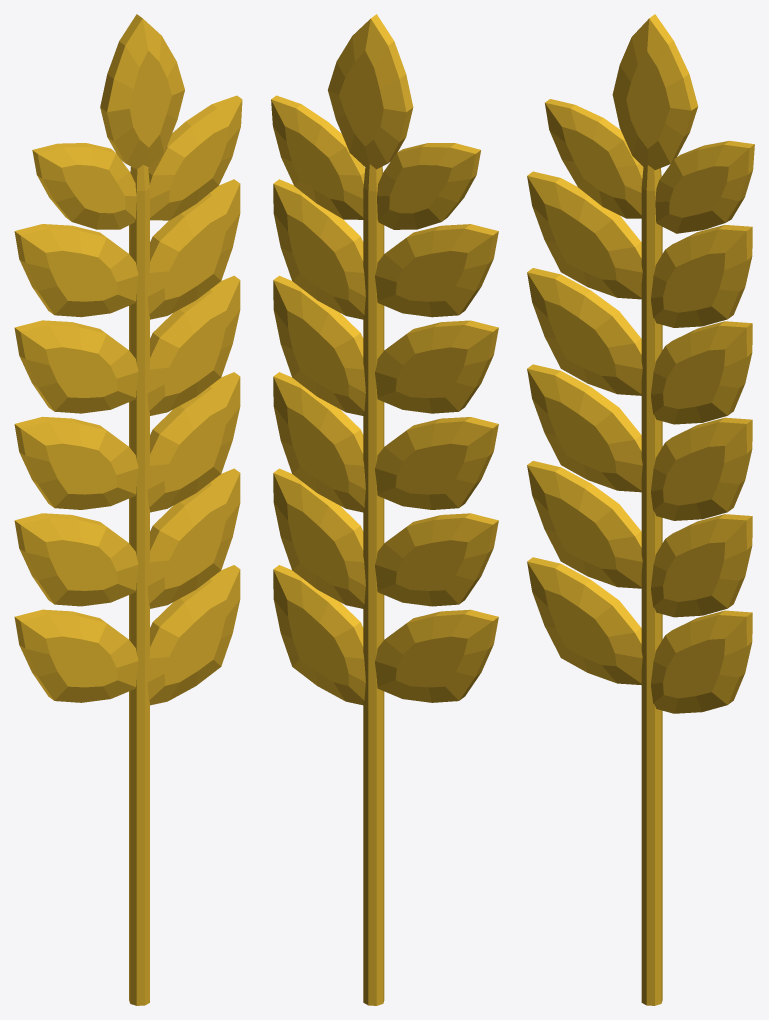
File: wheat.fbx
3 renders of one model, left to right at view 1: azimuth 30°, elevation 25°; view 2: azimuth 150°, elevation 25°; view 3: azimuth 330°, elevation 25°, orthographic.
Parts seen in each view (by area): view 1: wheat; view 2: wheat; view 3: wheat.
Part boxes in pixels (x1,y1,x2,y2): wheat: (14,14,242,1005); wheat: (271,14,498,1005); wheat: (527,14,754,1005).
Bounding box in the file's own units: 66.69 × 282 × 8.27.
